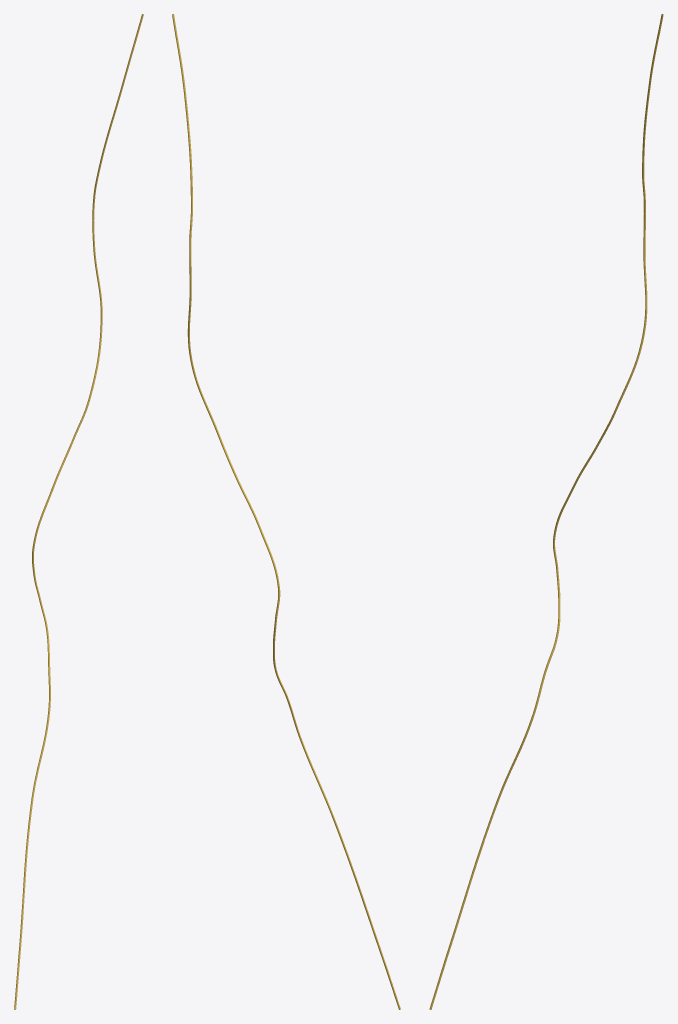
The model's file is Median_nerve_right.glb.
The picture shows the model from 3 angles, left to right: view 1: azimuth 30°, elevation 25°; view 2: azimuth 150°, elevation 25°; view 3: azimuth 330°, elevation 25°; orthographic projection. The views are drawn at different scales.
Visible parts, largest first — view 1: Median_nerve.r_BezierCurve.505; view 2: Median_nerve.r_BezierCurve.505; view 3: Median_nerve.r_BezierCurve.505.
Boxes of the visible parts, left/top/right/bottom form: Median_nerve.r_BezierCurve.505: left=14, top=14, right=143, bottom=1009; Median_nerve.r_BezierCurve.505: left=172, top=14, right=400, bottom=1009; Median_nerve.r_BezierCurve.505: left=429, top=14, right=663, bottom=1009.
Bounding box in the file's own units: 0.0997 × 0.5114 × 0.0605.
